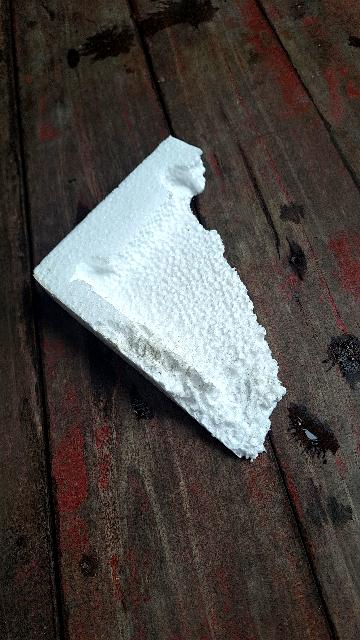cocksheet: (31, 116, 305, 465)
